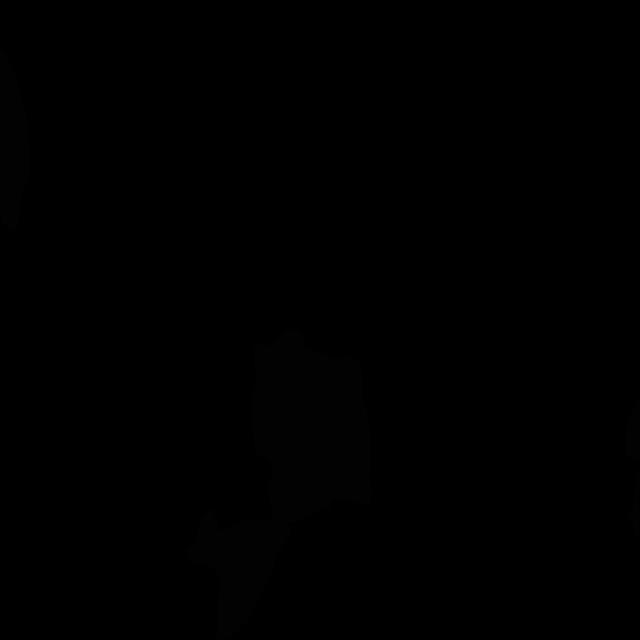cardboard: (251, 328, 373, 524), (184, 478, 291, 640), (0, 45, 30, 230)
